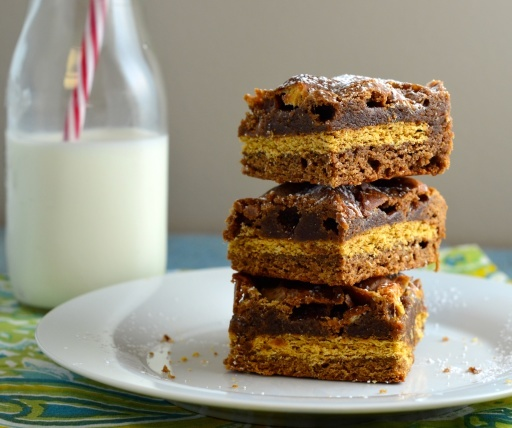background: (177, 48, 363, 255), (4, 86, 134, 207)
